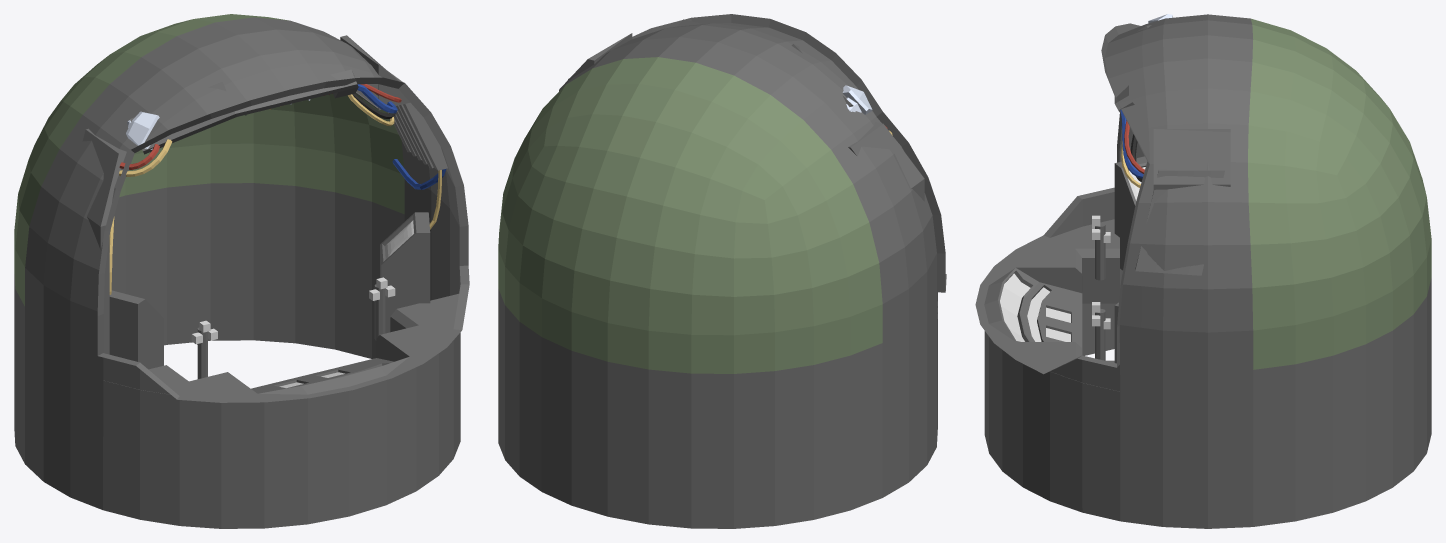
File: SmallMechExport4_Interior.fbx
3 renders of one model, left to right at view 1: azimuth 30°, elevation 25°; view 2: azimuth 150°, elevation 25°; view 3: azimuth 270°, elevation 25°, orthographic.
Parts seen in each view (by area): view 1: CockpitV2_EXPORT, MoveIndicatorLeft, MoveIndicatorRight; view 2: CockpitV2_EXPORT; view 3: CockpitV2_EXPORT, MoveIndicatorRight, MoveIndicatorLeft.
Boxes of the visible parts, <box> form: CockpitV2_EXPORT: <box>14,14,469,528</box>; MoveIndicatorLeft: <box>369,277,395,340</box>; MoveIndicatorRight: <box>191,320,217,378</box>; CockpitV2_EXPORT: <box>498,14,946,528</box>; CockpitV2_EXPORT: <box>975,14,1431,528</box>; MoveIndicatorRight: <box>1092,215,1110,280</box>; MoveIndicatorLeft: <box>1092,302,1110,360</box>.
Bounding box in the file's own units: 321 × 317 × 328.
